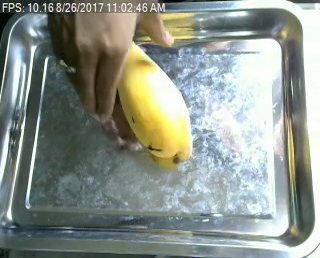Mango: (105, 40, 197, 162)
